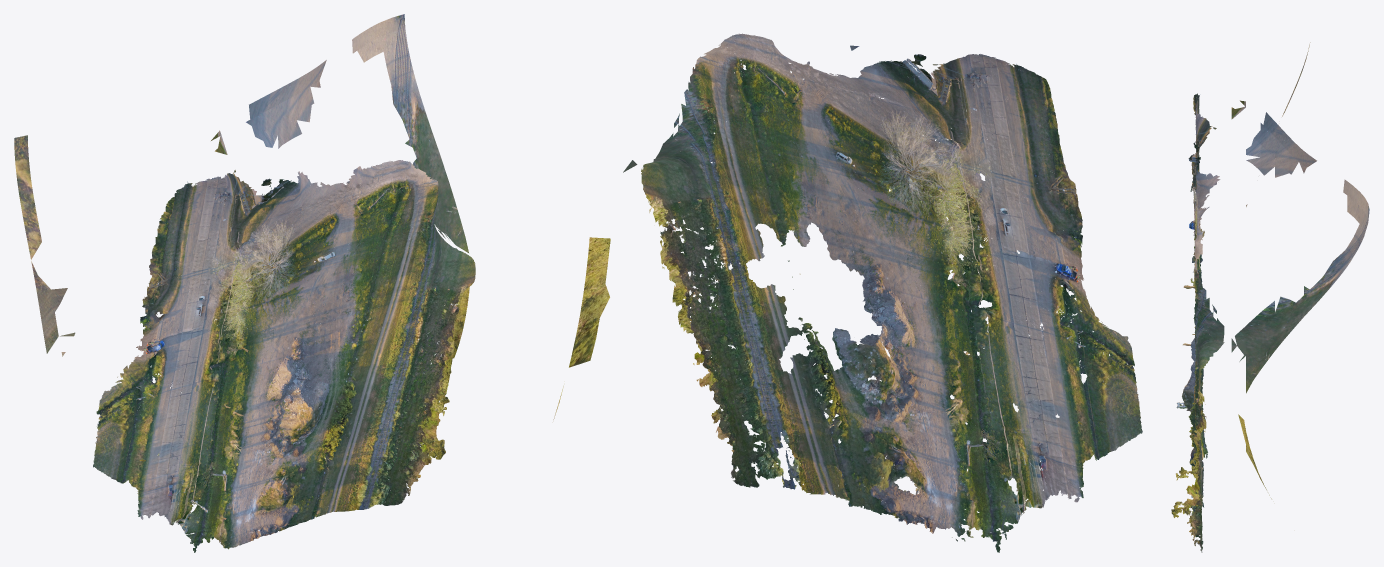
Rendered from modelo.glb.
The picture shows the model from 3 angles, left to right: view 1: azimuth 30°, elevation 25°; view 2: azimuth 150°, elevation 25°; view 3: azimuth 270°, elevation 25°; orthographic projection. The views are drawn at different scales.
Size of the model in its own units: 144 by 133 by 61.58.
12 materials, 12 textured.
